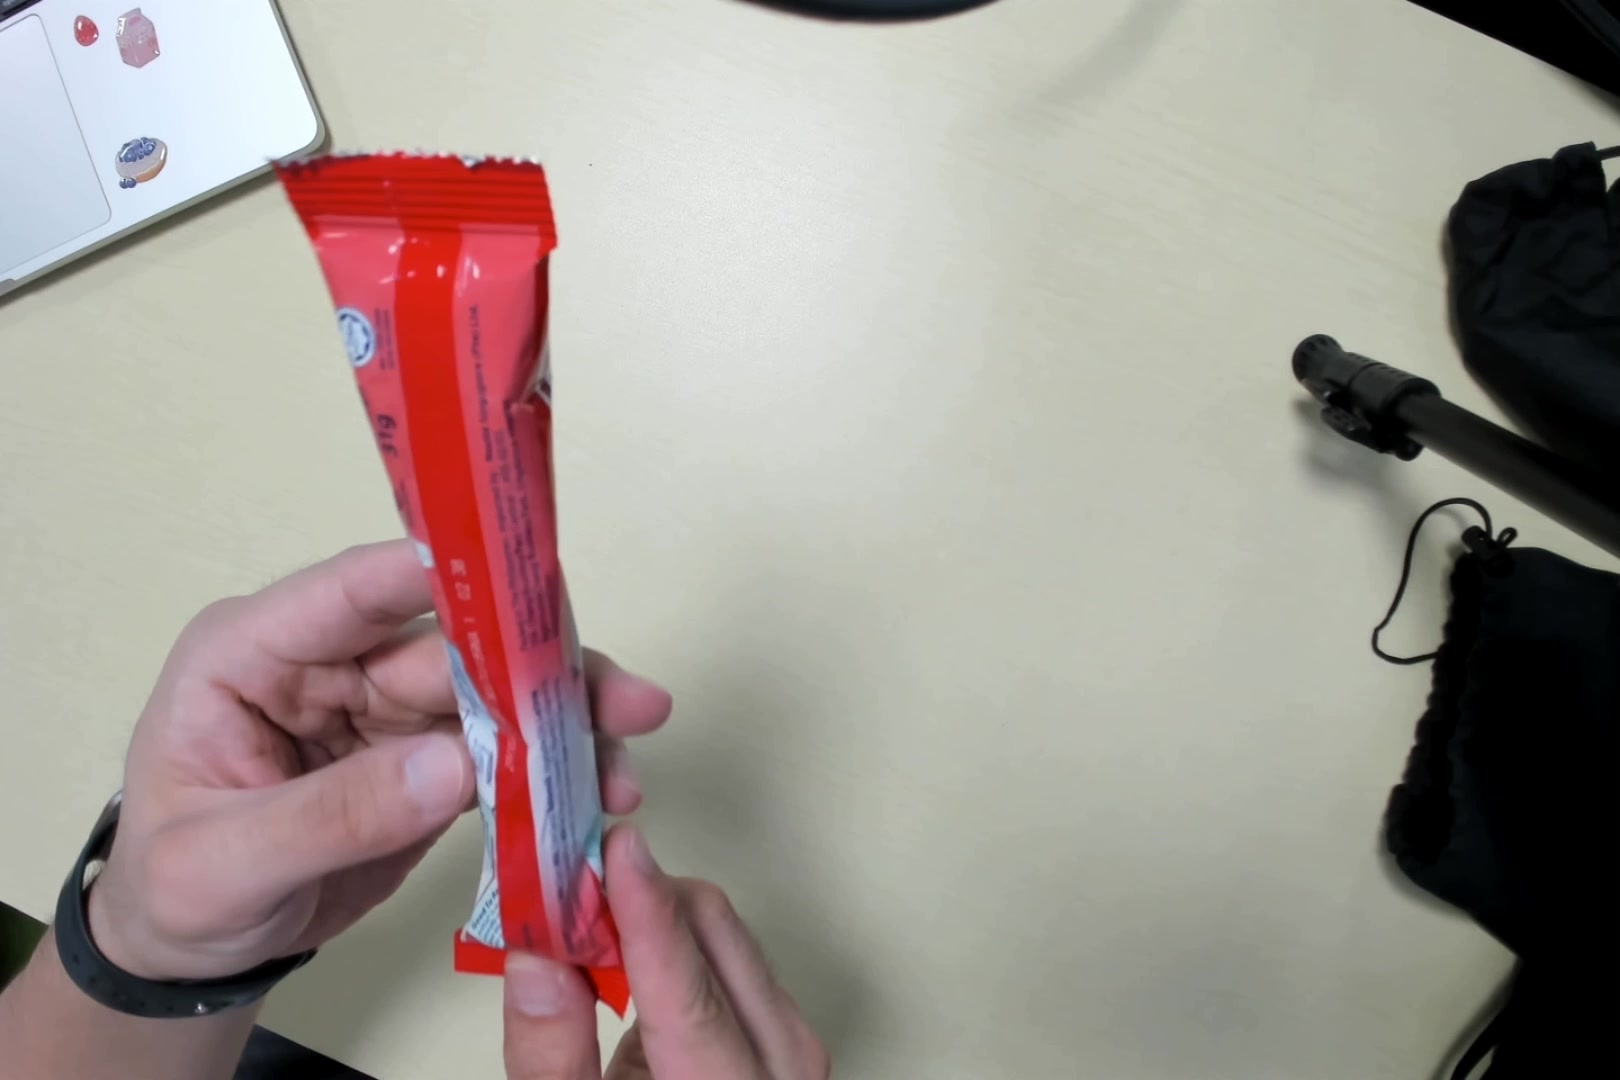MilkPowder_0-99g_Halal_NonHealthy: (290, 145, 638, 1010)
